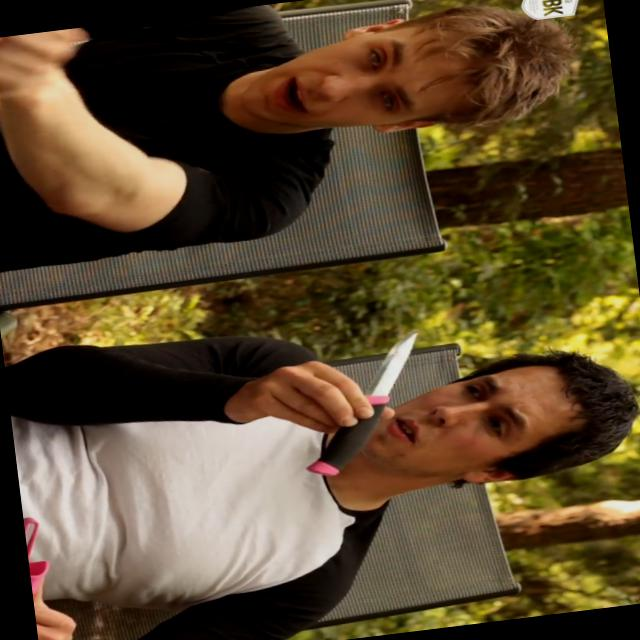knife: (273, 324, 448, 484)
